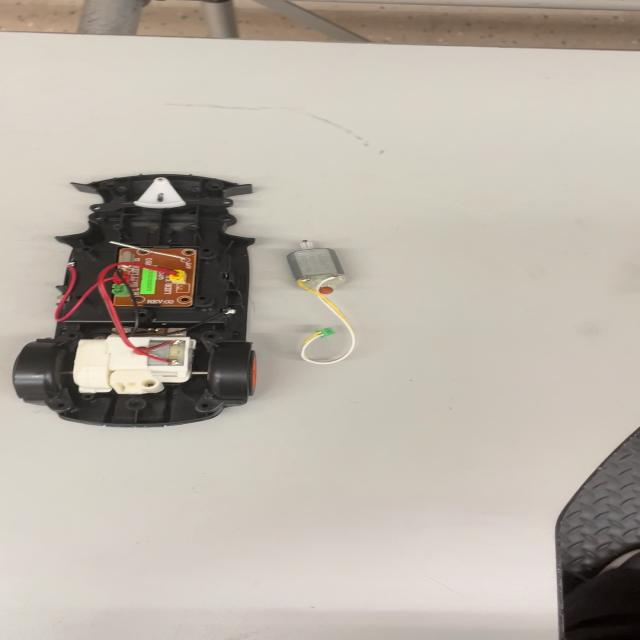Chassis: (16, 174, 262, 428)
motor: (276, 237, 357, 299)
